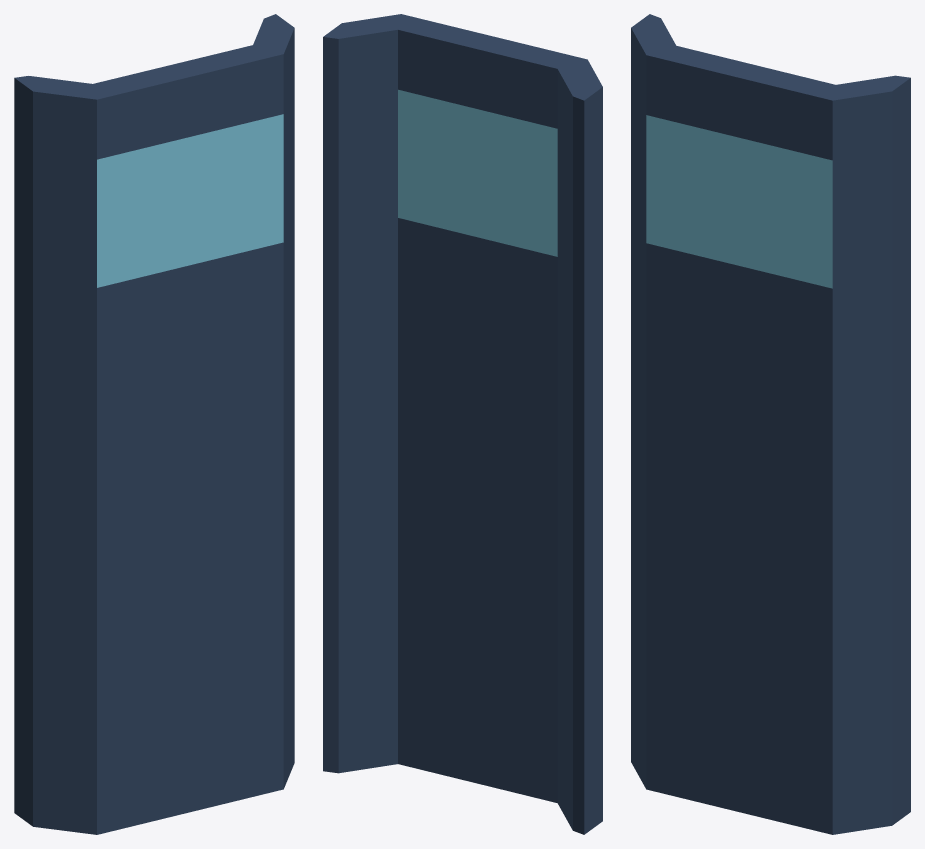
Rendered from Shield.fbx.
3 renders of one model, left to right at view 1: azimuth 30°, elevation 25°; view 2: azimuth 150°, elevation 25°; view 3: azimuth 330°, elevation 25°, orthographic.
Parts seen in each view (by area): view 1: Shield; view 2: Shield; view 3: Shield.
Boxes of the visible parts, bbox=[...] form: Shield: bbox=[14, 14, 294, 834]; Shield: bbox=[323, 14, 602, 834]; Shield: bbox=[631, 14, 910, 834].
Size of the model in its own units: 0.4832 by 1.3 by 0.1379.
